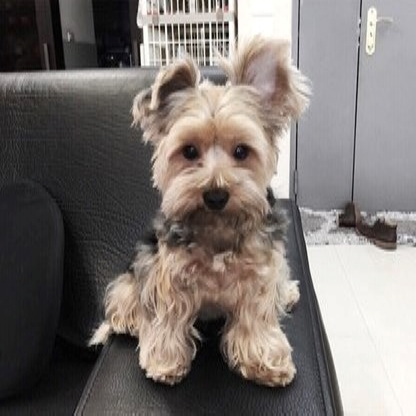yorkshire: (102, 37, 315, 393)
